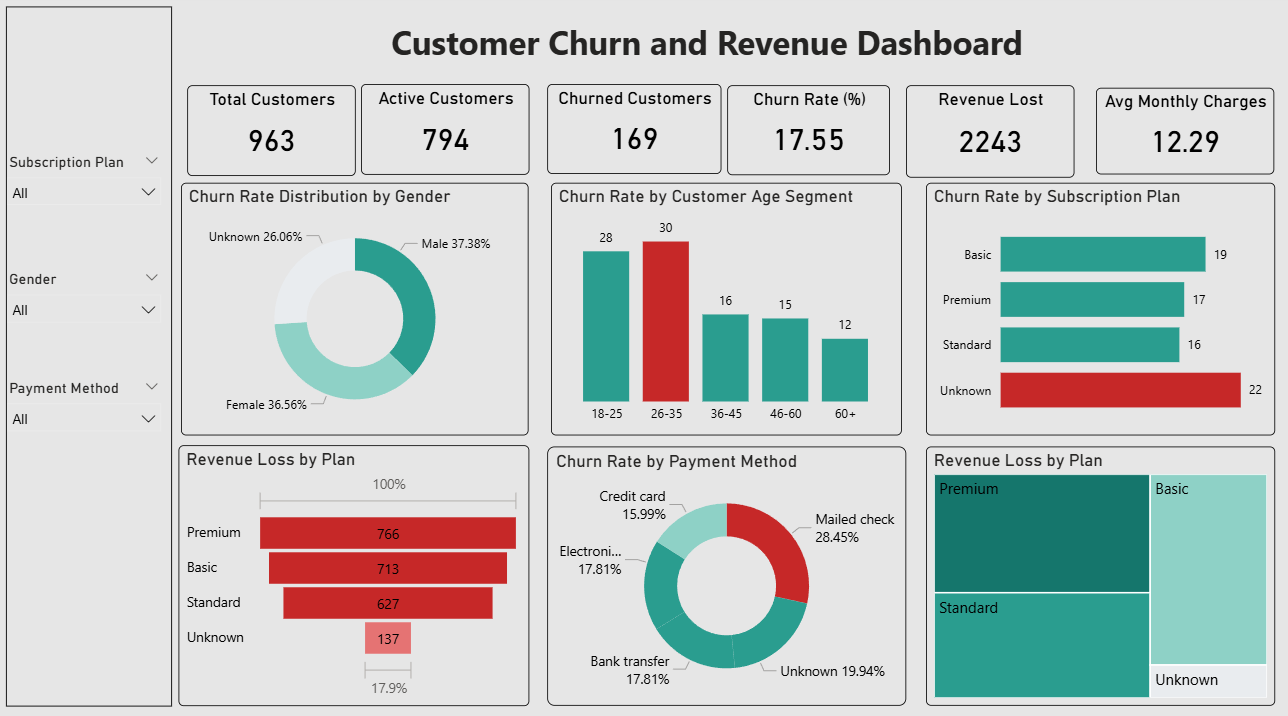

Layout of this report page (visuals, bound fields, positions):
{"tool":"powerbi","page":{"name":"Page 1","canvas":[1280,720],"ordinal":0},"visuals":[{"type":"card","title":"Total Customers ","fields":{"Values":["Subscription_Service_Churn_Dataset.Total Customers"]},"box":[186.6,89.2,164.7,89.2],"z":0},{"type":"clusteredBarChart","title":"Churn Rate by Subscription Plan","fields":{"Category":["Subscription_Service_Churn_Dataset.Subscription Type"],"Y":["Subscription_Service_Churn_Dataset.Churn Rate (%)"]},"box":[909.8,185.2,341.7,247],"z":1000},{"type":"columnChart","title":"Churn Rate by Customer Age Segment","fields":{"Category":["Subscription_Service_Churn_Dataset.Age Group"],"Y":["Subscription_Service_Churn_Dataset.Churn Rate (%)"]},"box":[543.4,185.2,343.1,247],"z":2000},{"type":"donutChart","title":"Churn Rate by Payment Method","fields":{"Y":["Subscription_Service_Churn_Dataset.Churn Rate (%)"],"Category":["Subscription_Service_Churn_Dataset.Payment Method"]},"box":[539.3,443.2,351.3,253.9],"z":3000},{"type":"card","title":"Active Customers ","fields":{"Values":["Subscription_Service_Churn_Dataset.Active Customers"]},"box":[356.8,87.8,164.7,89.2],"z":4000},{"type":"card","title":"Avg Monthly Charges","fields":{"Values":["Subscription_Service_Churn_Dataset.Avg Monthly Charges"]},"box":[1075.8,91.9,174.3,85.1],"z":5000},{"type":"card","title":"Churned Customers ","fields":{"Values":["Subscription_Service_Churn_Dataset.Churned Customers"]},"box":[539.3,87.8,170.2,87.8],"z":6000},{"type":"card","title":"Churn Rate (%) ","fields":{"Values":["Subscription_Service_Churn_Dataset.Churn Rate (%)"]},"box":[714.9,89.2,159.2,87.8],"z":7000},{"type":"card","title":"Revenue Lost","fields":{"Values":["Subscription_Service_Churn_Dataset.Revenue Lost"]},"box":[890.6,89.2,164.7,90.6],"z":8000},{"type":"donutChart","title":"Churn Rate Distribution by Gender","fields":{"Category":["Subscription_Service_Churn_Dataset.Gender"],"Y":["Subscription_Service_Churn_Dataset.Churn Rate (%)"]},"box":[181.1,185.2,340.3,247],"z":9000},{"type":"textbox","box":[352.4,20.6,686.9,53.7],"z":10000},{"type":"slicer","fields":{"Values":["Subscription_Service_Churn_Dataset.Subscription Type"]},"box":[0,150.9,171.5,75.5],"z":11000},{"type":"slicer","fields":{"Values":["Subscription_Service_Churn_Dataset.Gender"]},"box":[0,264.8,171.5,75.5],"z":12000},{"type":"slicer","fields":{"Values":["Subscription_Service_Churn_Dataset.Payment Method"]},"box":[0,371.9,171.5,75.5],"z":13000},{"type":"funnel","title":"Revenue Loss by Plan","fields":{"Category":["Subscription_Service_Churn_Dataset.Subscription Type"],"Y":["Subscription_Service_Churn_Dataset.Revenue Lost"]},"box":[178.4,441.9,343.1,255.2],"z":14000},{"type":"treemap","title":"Revenue Loss by Plan","fields":{"Group":["Subscription_Service_Churn_Dataset.Subscription Type"],"Values":["Sum(Subscription_Service_Churn_Dataset.Total Charges)"]},"box":[909.8,443.2,341.7,253.9],"z":15000},{"type":"shape","box":[0,0,172.1,696.6],"z":16000}]}

Visuals, with their boxes in screenshot pixels (x1, y1, x2, y2), scaled from the page's 1280x720 canvas onto the 1288x716 screenshot:
"Total Customers " card: 188:89:353:177
"Churn Rate by Subscription Plan" clusteredBarChart: 915:184:1259:430
"Churn Rate by Customer Age Segment" columnChart: 547:184:892:430
"Churn Rate by Payment Method" donutChart: 543:441:896:693
"Active Customers " card: 359:87:525:176
"Avg Monthly Charges" card: 1083:91:1258:176
"Churned Customers " card: 543:87:714:175
"Churn Rate (%) " card: 719:89:880:176
"Revenue Lost" card: 896:89:1062:179
"Churn Rate Distribution by Gender" donutChart: 182:184:525:430
textbox: 355:20:1046:74
slicer - Subscription_Service_Churn_Dataset.Subscription Type: 0:150:173:225
slicer - Subscription_Service_Churn_Dataset.Gender: 0:263:173:338
slicer - Subscription_Service_Churn_Dataset.Payment Method: 0:370:173:445
"Revenue Loss by Plan" funnel: 180:439:525:693
"Revenue Loss by Plan" treemap: 915:441:1259:693
shape: 0:0:173:693
